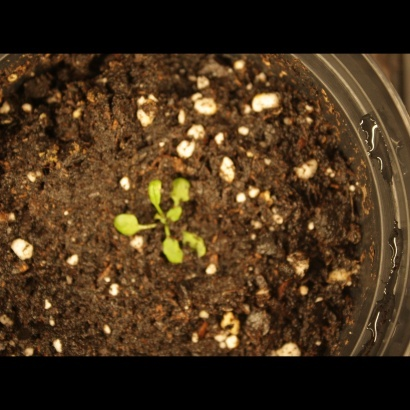leaf: (178, 227, 215, 260), (109, 208, 144, 241), (142, 171, 167, 207), (159, 235, 184, 268), (171, 171, 194, 204), (164, 202, 187, 225)
